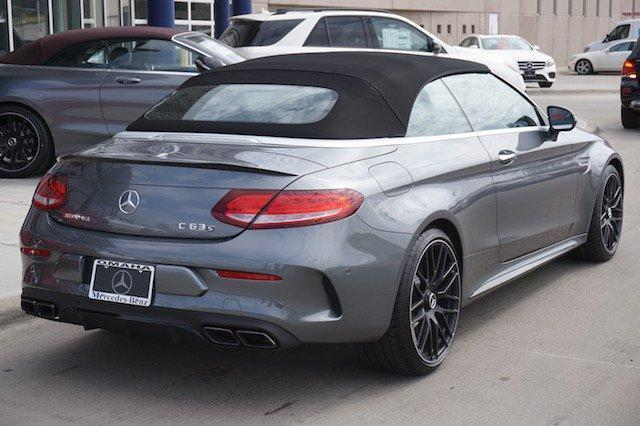C63AMG: (15, 43, 629, 367)
